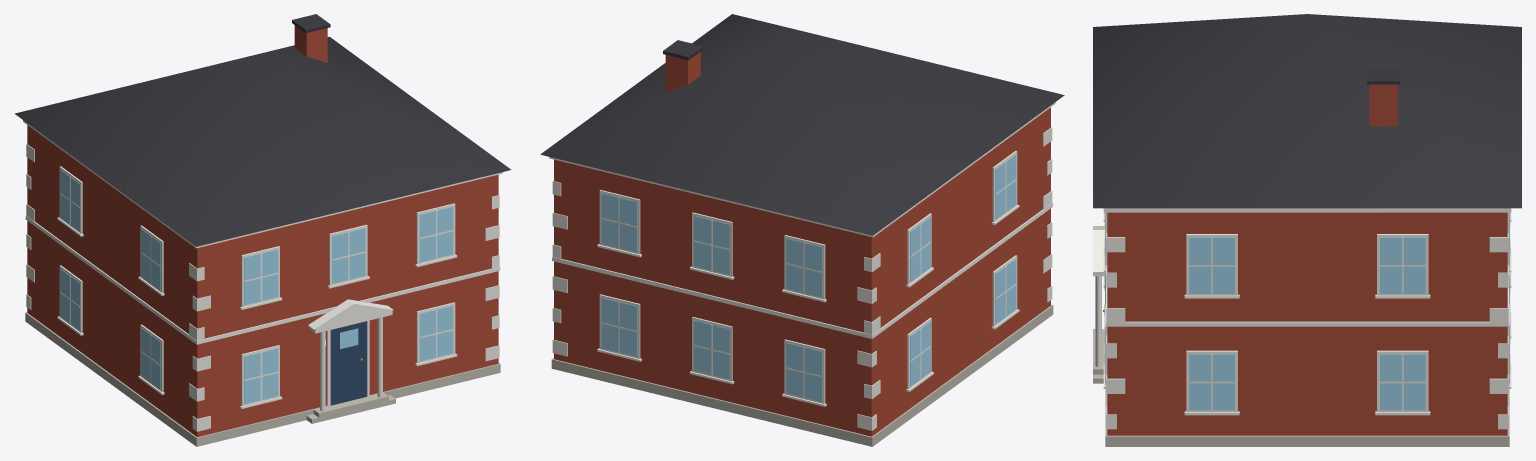
The model's file is house_c.glb.
The picture shows the model from 3 angles, left to right: view 1: azimuth 30°, elevation 25°; view 2: azimuth 150°, elevation 25°; view 3: azimuth 270°, elevation 25°; orthographic projection. The views are drawn at different scales.
Parts seen in each view (by area): view 1: body; view 2: body; view 3: body.
Boxes of the visible parts, bbox=[...] form: body: bbox=[15, 14, 511, 446]; body: bbox=[540, 14, 1064, 446]; body: bbox=[1093, 14, 1521, 446].
Size of the model in its own units: 900 by 800 by 900.
